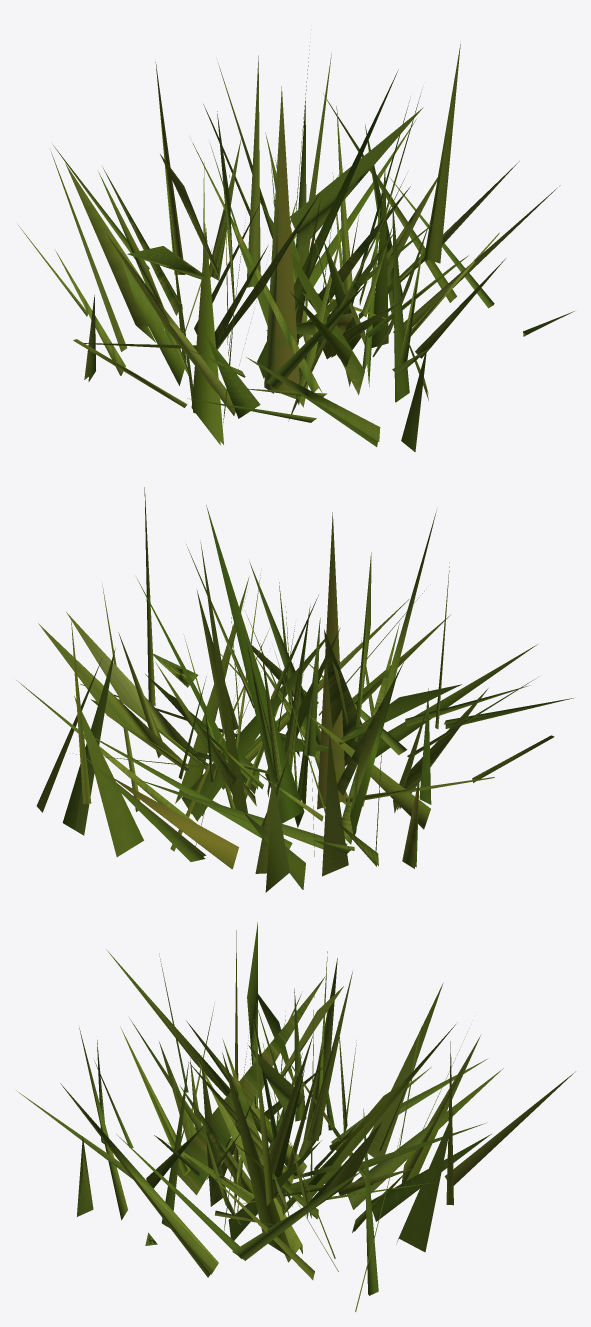
Rendered from Tuft_Meadow_C.glb.
3 views of the same model, one above another, from view 1: azimuth 30°, elevation 25°; view 2: azimuth 150°, elevation 25°; view 3: azimuth 270°, elevation 25° (orthographic). The views are drawn at different scales.
Parts seen in each view (by area): view 1: Tuft_Meadow_C; view 2: Tuft_Meadow_C; view 3: Tuft_Meadow_C.
Boxes of the visible parts, left/top/right/bottom form: Tuft_Meadow_C: left=18, top=44, right=574, bottom=451; Tuft_Meadow_C: left=16, top=487, right=573, bottom=892; Tuft_Meadow_C: left=16, top=922, right=575, bottom=1311.
Bounding box in the file's own units: 0.236 × 0.1596 × 0.272.
1 material, 1 textured.
